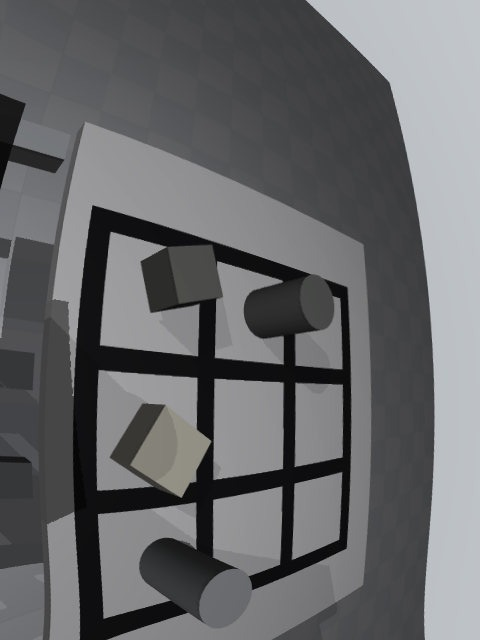can: (139, 538, 252, 629)
cube: (141, 244, 223, 313)
cylinder: (244, 274, 334, 338)
foam: (109, 404, 212, 497)
